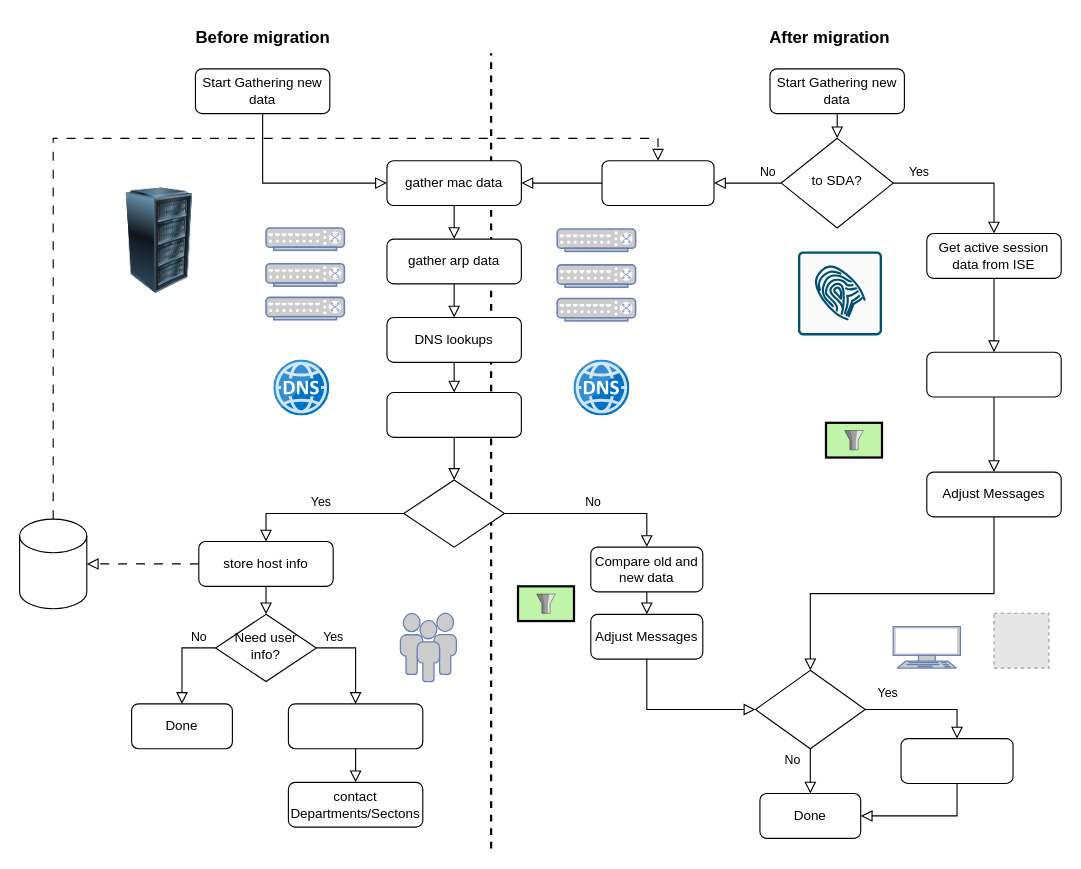
The diagram is 1081 pixels wide and 869 high, and some of its shapes have lost their labels. Grey dashed boxes stand in for pictures. Each missing label, with the centre of its shape:
Compare old data with data from ISE: (x=993, y=374)
enrich host info: (x=453, y=414)
First Run?: (x=454, y=513)
get user info: (x=355, y=726)
Print & ms-teams?: (x=809, y=709)
Read previous host file: (x=657, y=183)
Send out messages: (x=956, y=760)
